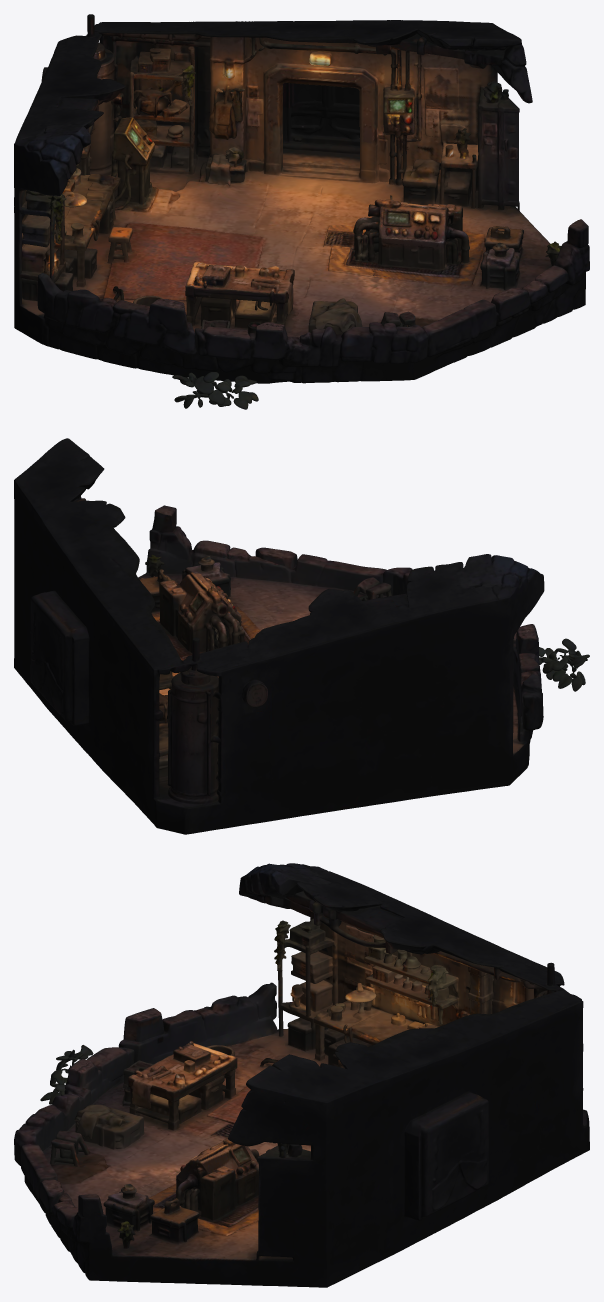
File: shelter-room.glb
3 views of the same model, one above another, from view 1: azimuth 30°, elevation 25°; view 2: azimuth 150°, elevation 25°; view 3: azimuth 270°, elevation 25° (orthographic). The views are drawn at different scales.
Visible parts, largest first — view 1: tripo_node_a630b3e9-bcec-418d-9370-2f6f8f9d90d4; view 2: tripo_node_a630b3e9-bcec-418d-9370-2f6f8f9d90d4; view 3: tripo_node_a630b3e9-bcec-418d-9370-2f6f8f9d90d4.
Part boxes in pixels (box(x1,y1,x2,y2)): tripo_node_a630b3e9-bcec-418d-9370-2f6f8f9d90d4: box(14, 14, 589, 409); tripo_node_a630b3e9-bcec-418d-9370-2f6f8f9d90d4: box(14, 438, 589, 834); tripo_node_a630b3e9-bcec-418d-9370-2f6f8f9d90d4: box(14, 863, 589, 1287).
Bounding box in the file's own units: 0.9712 × 0.3997 × 1.
Materials: 1 (1 with a texture image).
